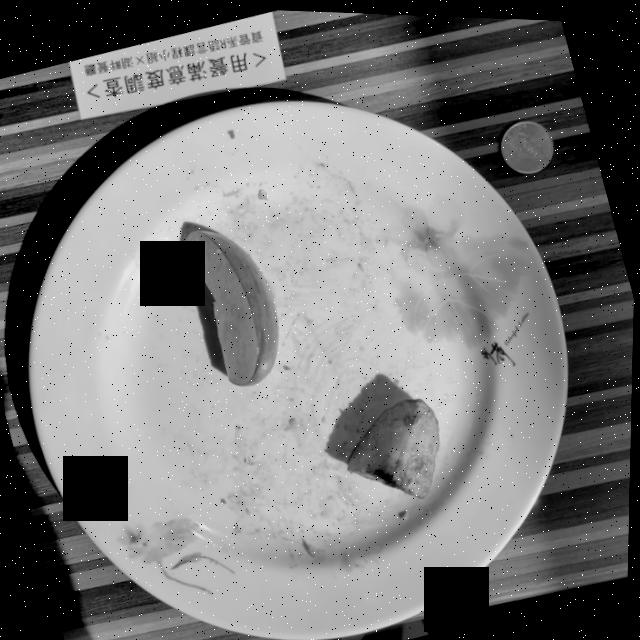apple -sliced-: (184, 228, 280, 384)
coin: (501, 116, 554, 169)
fried potato: (349, 394, 441, 494)
